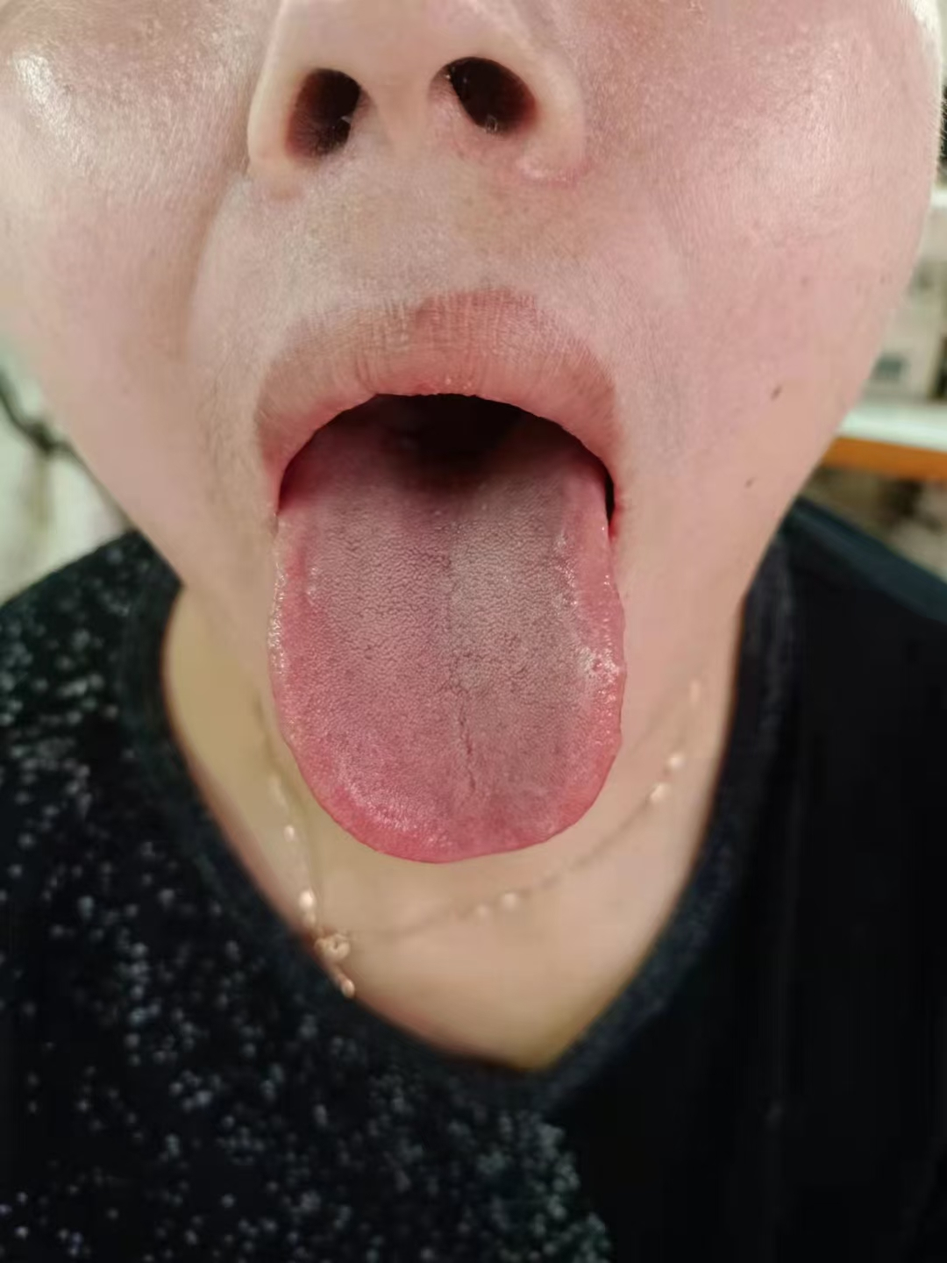baitaishe: (266, 428, 625, 860)
hongshe: (267, 429, 627, 861)
